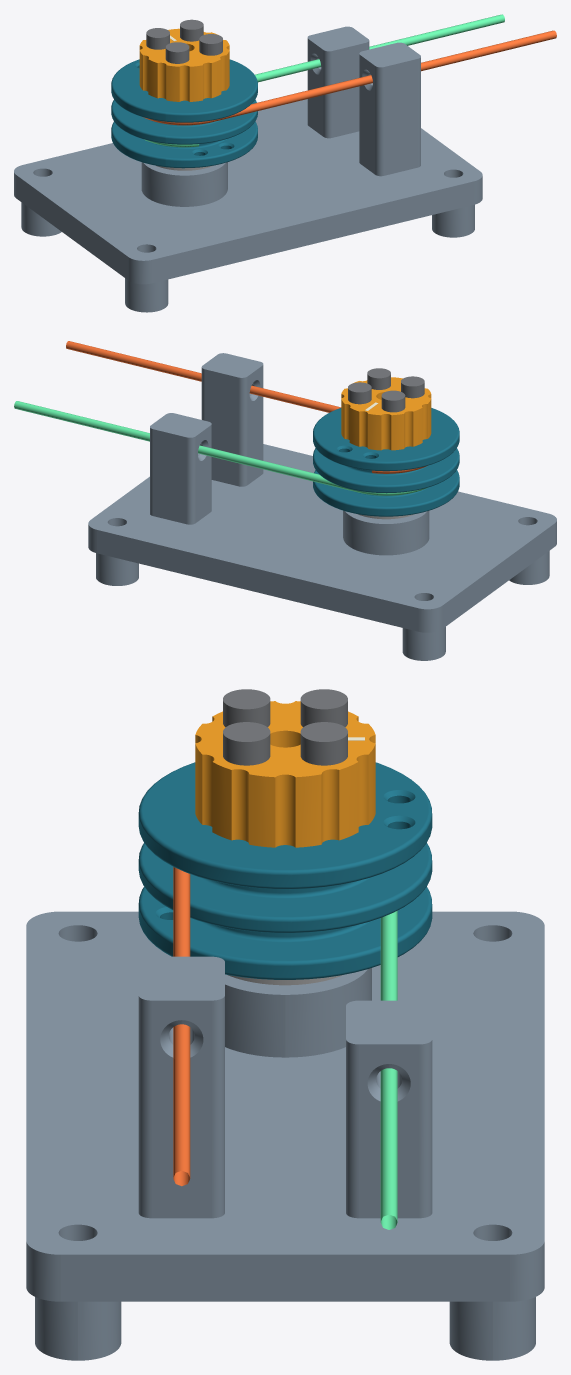
File: Orthosis_V04_manual_rig.glb
3 views of the same model, one above another, from view 1: azimuth 30°, elevation 25°; view 2: azimuth 150°, elevation 25°; view 3: azimuth 270°, elevation 25° (orthographic). The views are drawn at different scales.
Visible parts, largest first — view 1: D01_base, B04, D02_wheel, Ideal path B, Ideal path A, D03_foot_0, D03_foot_2, D03_foot_1, M3_0, M3_1, M3_2, M3_3; view 2: D01_base, B04, D02_wheel, Ideal path A, Ideal path B, D03_foot_1, D03_foot_3, D03_foot_0, M3_3, M3_2, M3_0, M3_1; view 3: D01_base, B04, D02_wheel, D03_foot_2, D03_foot_3, Ideal path A, Ideal path B, M3_1, M3_2, M3_0, M3_3.
Part boxes in pixels (box(x1,y1,x2,y2)): D01_base: box(14, 26, 482, 284); B04: box(111, 59, 257, 168); D02_wheel: box(139, 28, 229, 101); Ideal path B: box(143, 30, 556, 125); Ideal path A: box(144, 14, 504, 147); D03_foot_0: box(125, 278, 168, 312); D03_foot_2: box(432, 204, 474, 237); D03_foot_1: box(21, 202, 61, 236); M3_0: box(165, 42, 189, 63); M3_1: box(199, 34, 222, 55); M3_2: box(180, 19, 203, 41); M3_3: box(146, 28, 169, 49); D01_base: box(88, 353, 556, 632); B04: box(313, 408, 459, 516); D02_wheel: box(341, 377, 431, 450); Ideal path A: box(14, 401, 427, 495); Ideal path B: box(66, 341, 427, 473); D03_foot_1: box(402, 627, 445, 660); D03_foot_3: box(96, 553, 138, 585); D03_foot_0: box(509, 551, 549, 584); M3_3: box(381, 390, 405, 412); M3_2: box(348, 382, 371, 404); M3_0: box(401, 376, 424, 398); M3_1: box(367, 368, 390, 389); D01_base: box(26, 911, 544, 1301); B04: box(138, 762, 432, 979); D02_wheel: box(195, 701, 375, 847); D03_foot_2: box(35, 1297, 121, 1360); D03_foot_3: box(449, 1297, 535, 1360); Ideal path A: box(380, 910, 397, 1229); Ideal path B: box(173, 867, 190, 1186); M3_1: box(223, 722, 270, 765); M3_2: box(300, 722, 347, 765); M3_0: box(223, 689, 270, 727); M3_3: box(300, 689, 347, 727).
Bounding box in the file's own units: 0.122 × 0.053 × 0.06.
